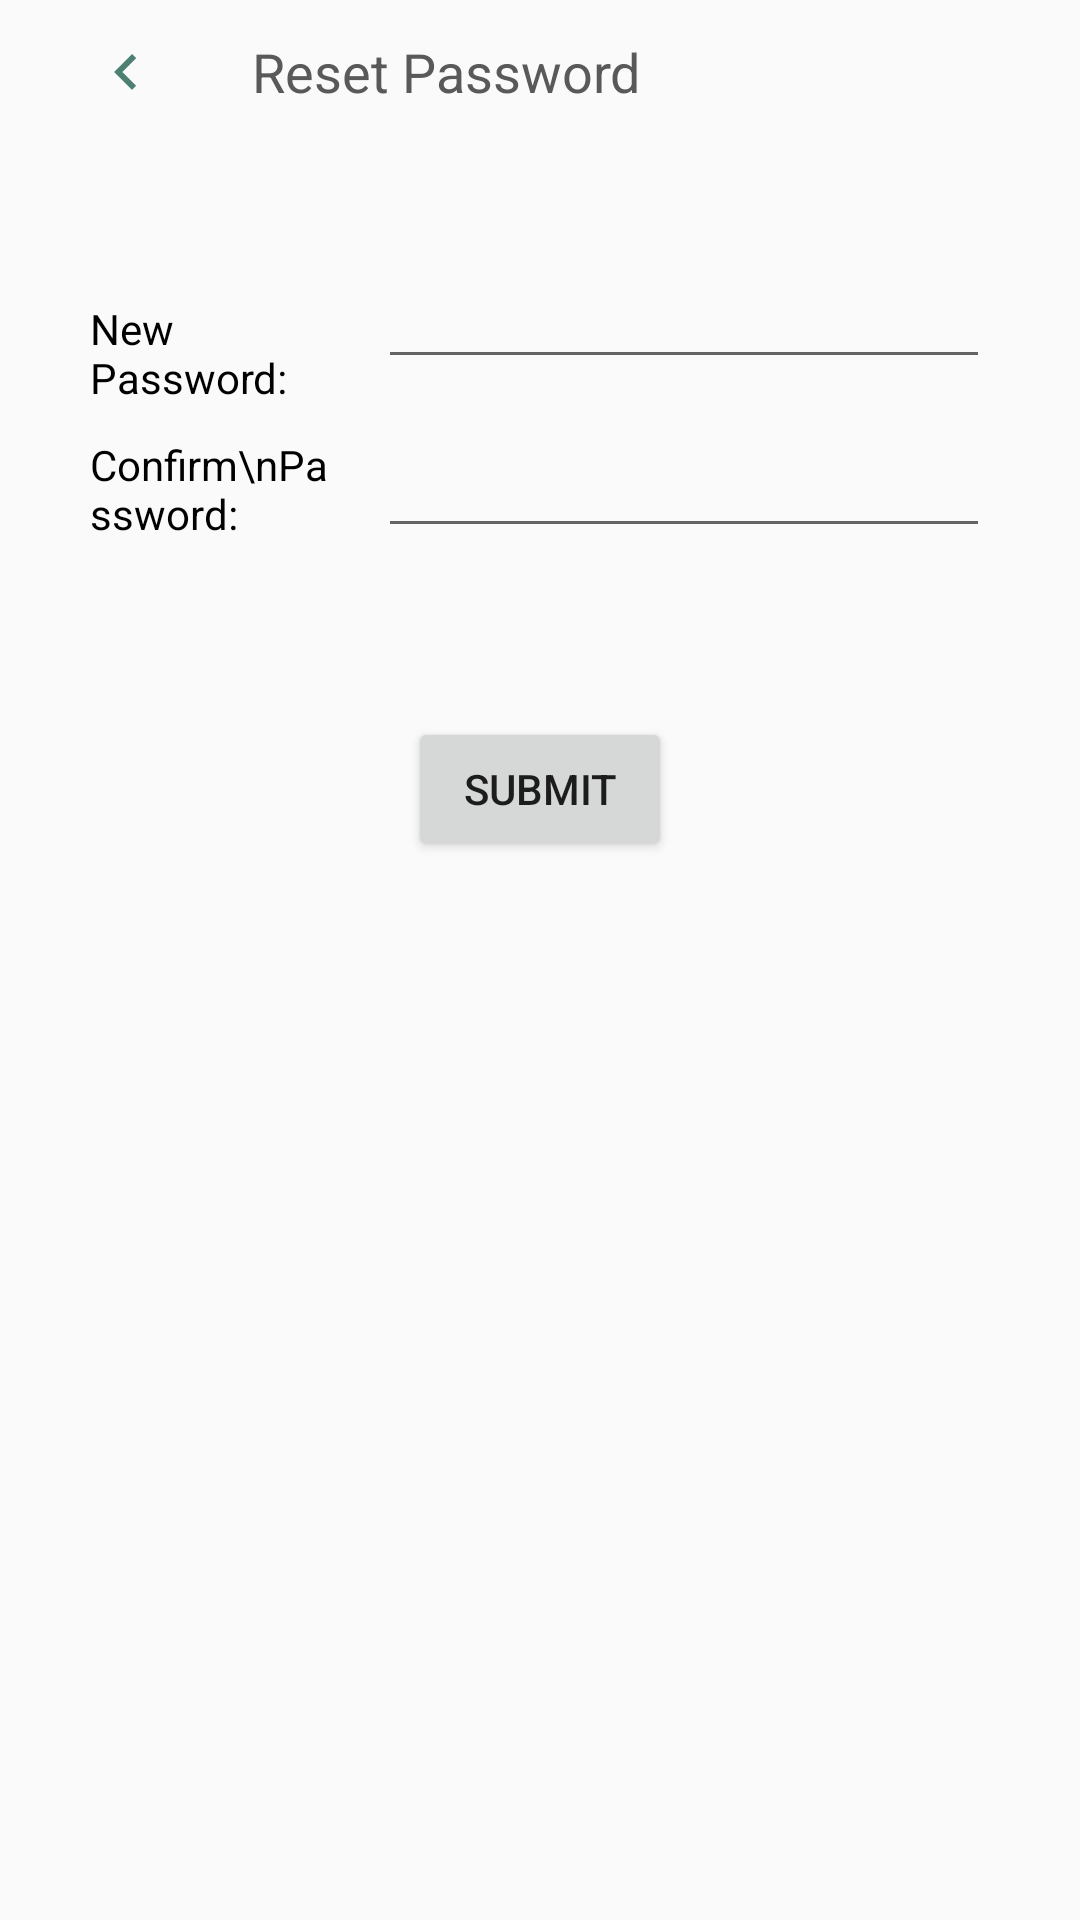

Icons on this 1080×1920 Android screen, each with its box as Rect(x1, y1, x2, y2):
keyboard arrow left: Rect(114, 54, 136, 90)
